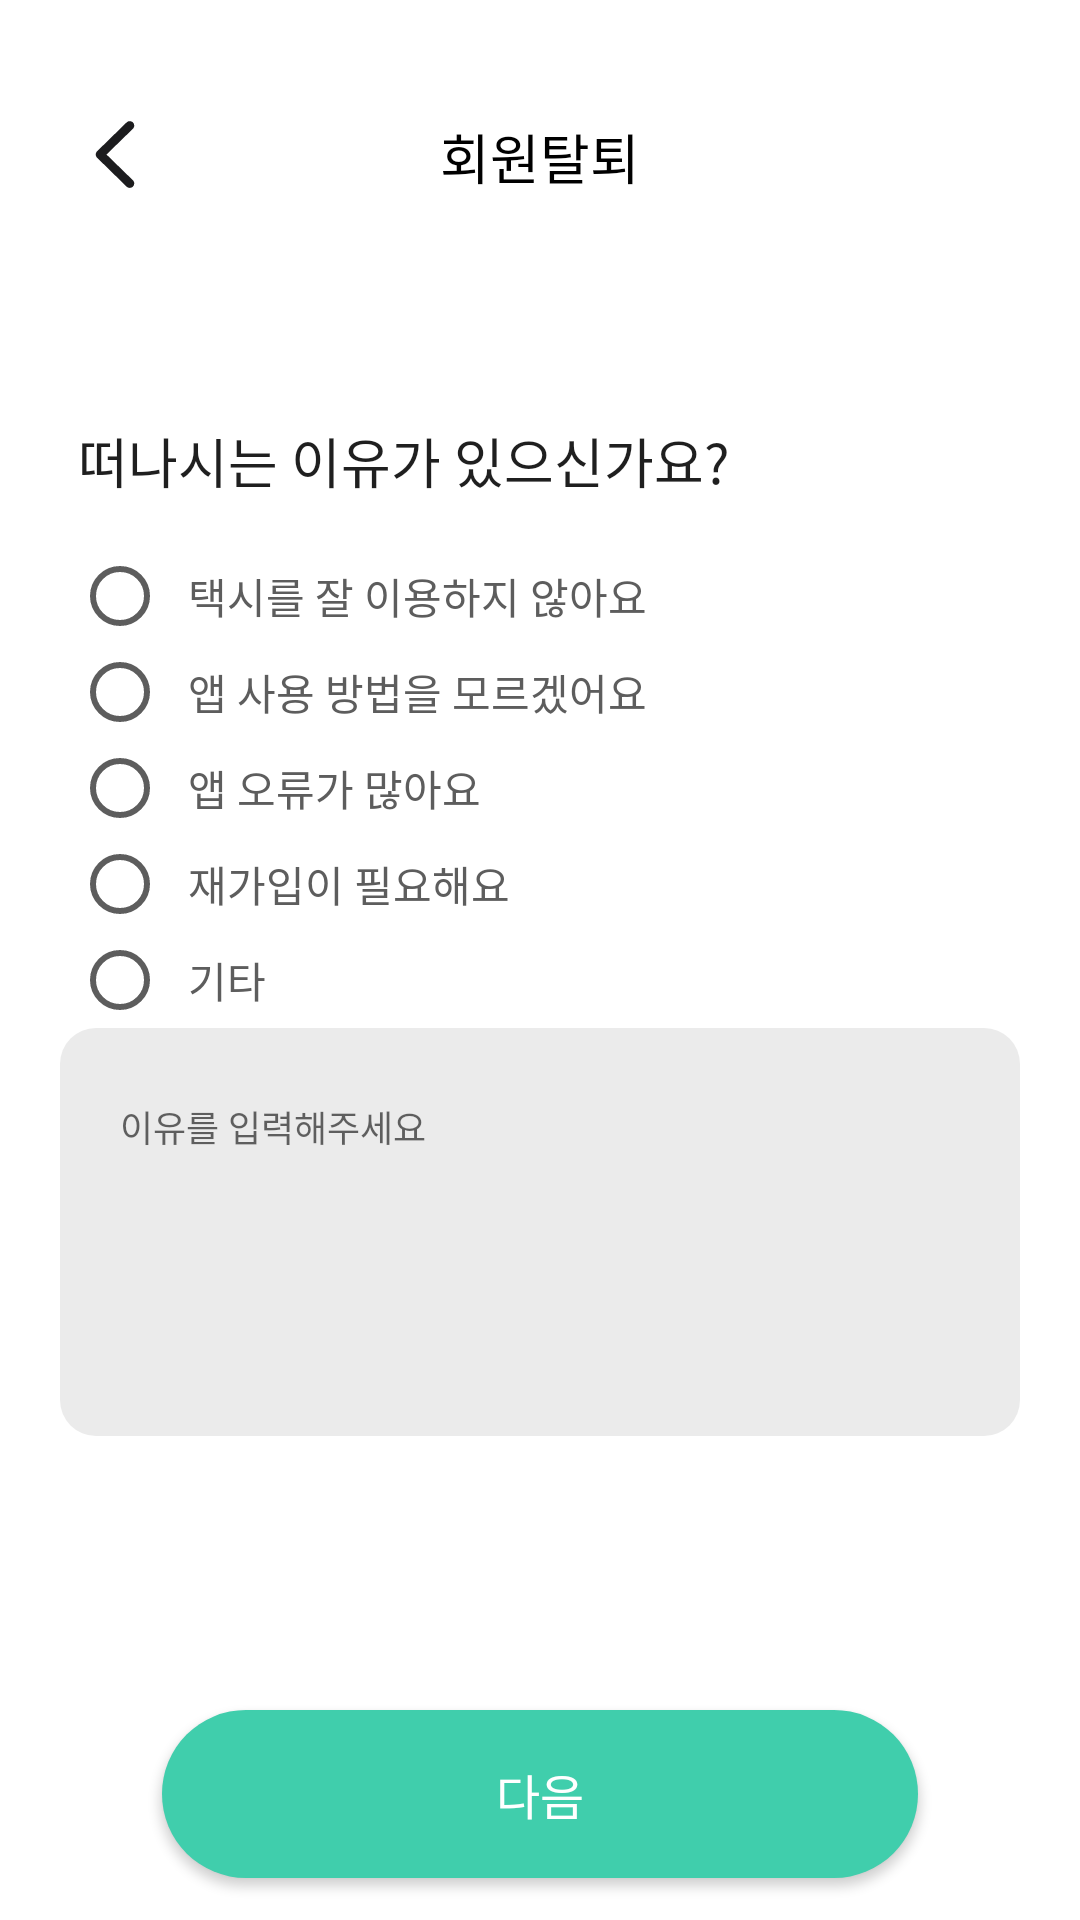

Where to tap for icons on this 1080px×1920px app screen, as (x,y):
backward: (115,154)
